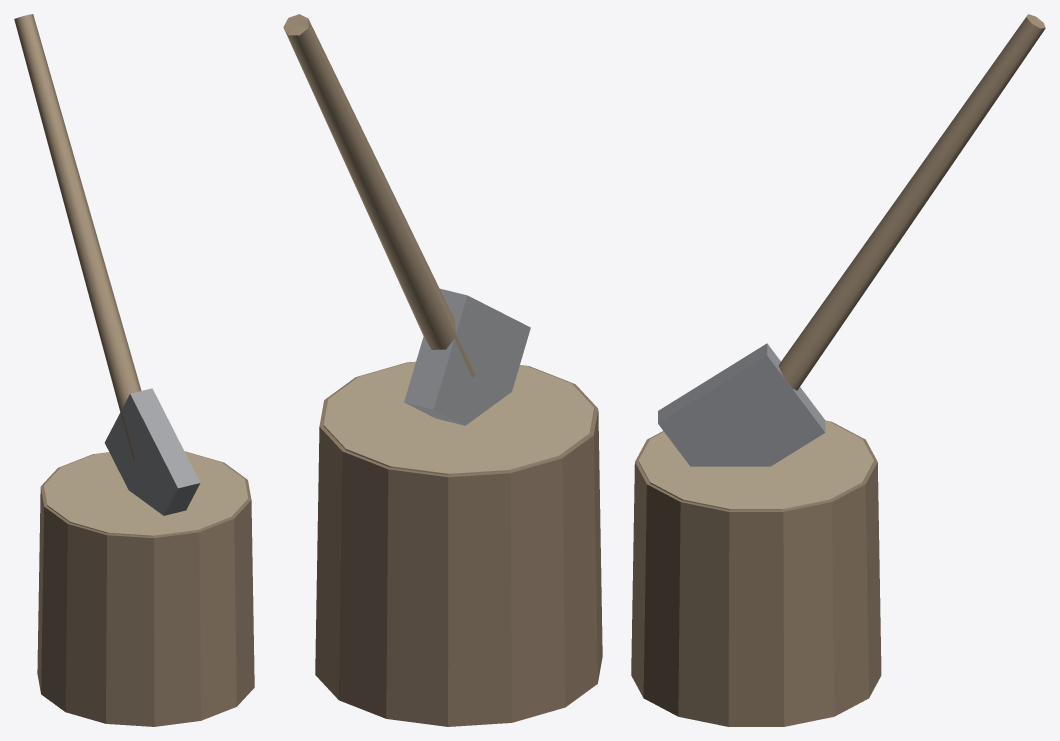
The model's file is camp_axe_a.glb.
3 views of the same model, side by side, from view 1: azimuth 30°, elevation 25°; view 2: azimuth 150°, elevation 25°; view 3: azimuth 270°, elevation 25° (orthographic). The views are drawn at different scales.
Parts seen in each view (by area): view 1: body; view 2: body; view 3: body.
Part boxes in pixels (left/top/right/bottom): body: left=14, top=14, right=254, bottom=726; body: left=283, top=14, right=602, bottom=726; body: left=631, top=14, right=1045, bottom=726.
Size of what is drawn, in the model's own units: 0.3315 by 0.9883 by 0.5632.
